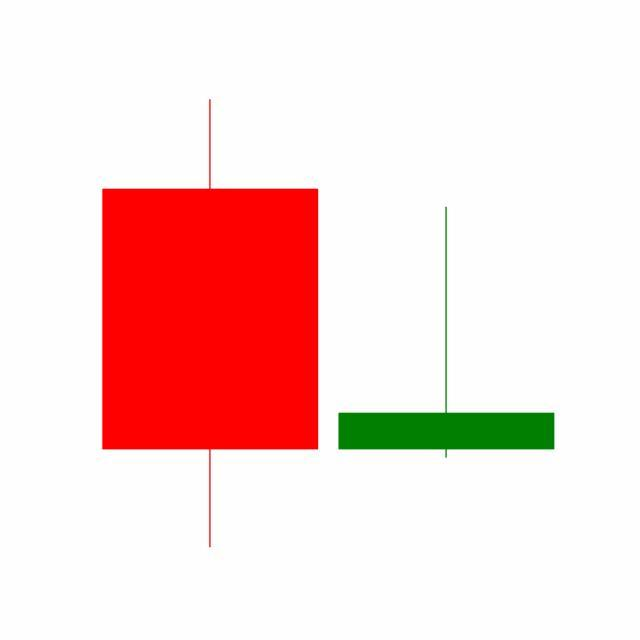Gravestone Doji: (328, 204, 566, 462)
